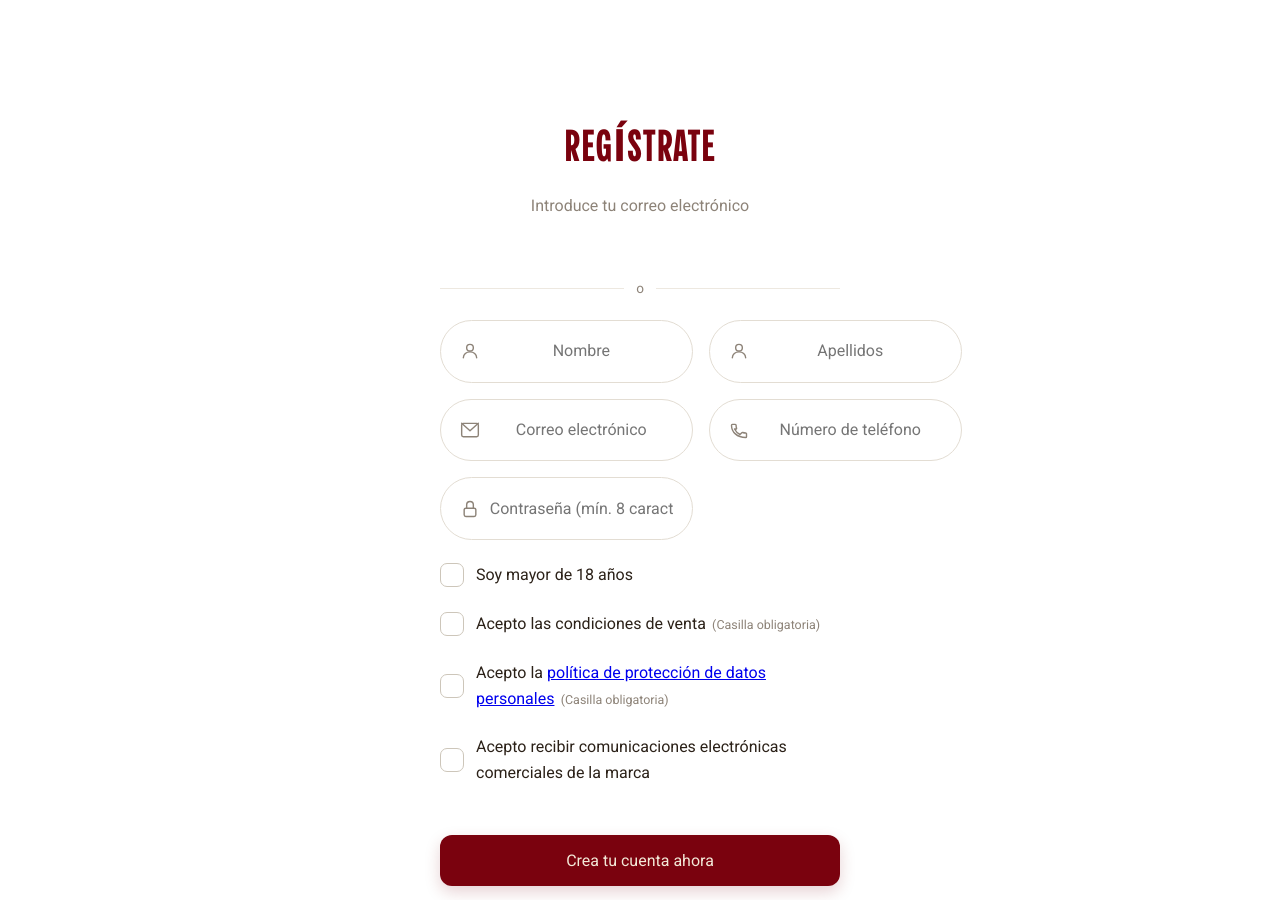
it: Registro page › shows welcome modal after successful registration
Type "Maria" into the field with placeholder "Nombre".
click(581, 351); type("Maria")  # box [490,327,673,375]
Type "García" into the field with placeholder "Apellidos".
click(850, 351); type("García")  # box [759,327,942,375]
Type "maria@test.com" into the field with placeholder "Correo electrónico".
click(581, 430); type("maria@test.com")  # box [490,406,673,454]
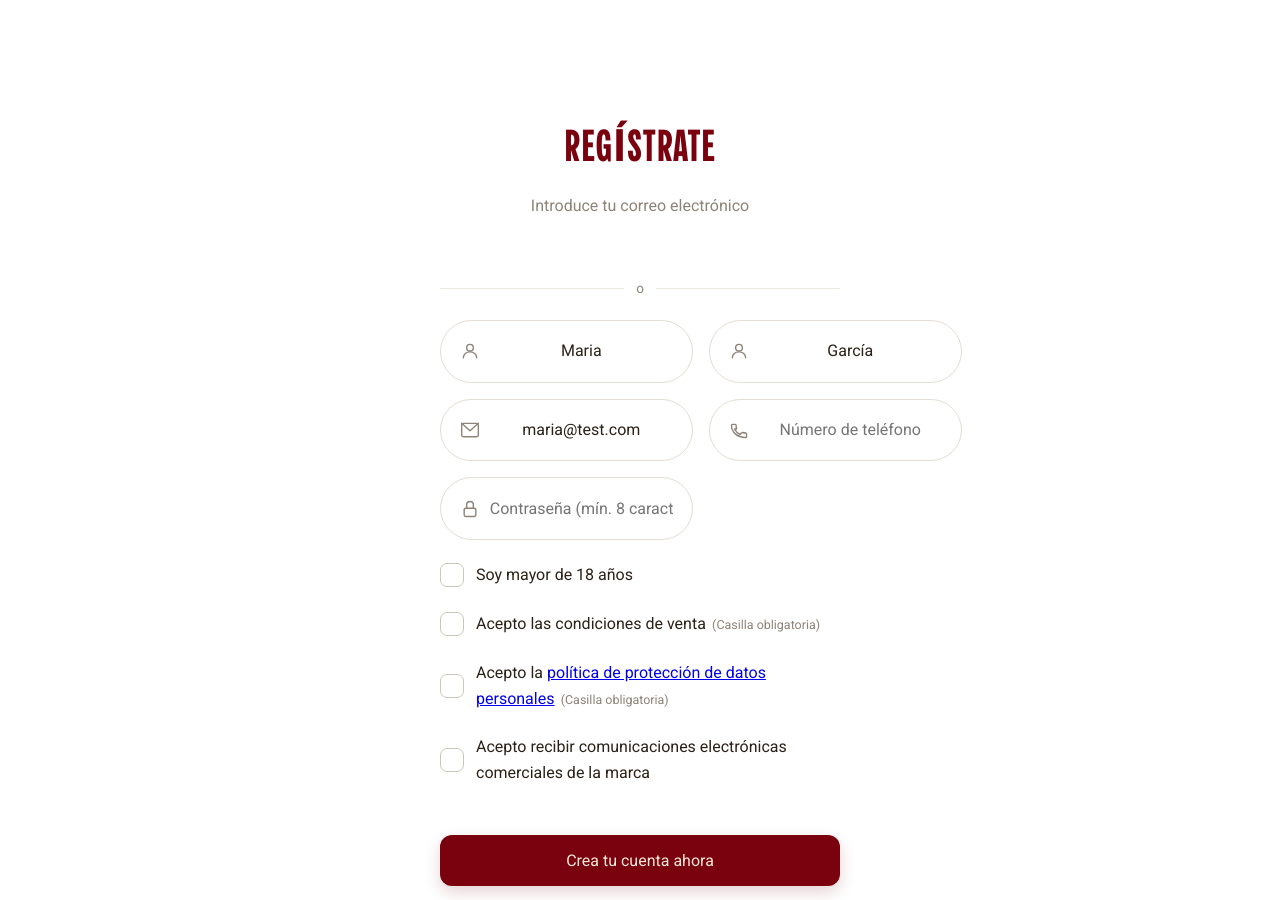
Type "612345678" into the field with placeholder "Número de teléfono".
click(850, 430); type("612345678")  # box [759,406,942,454]
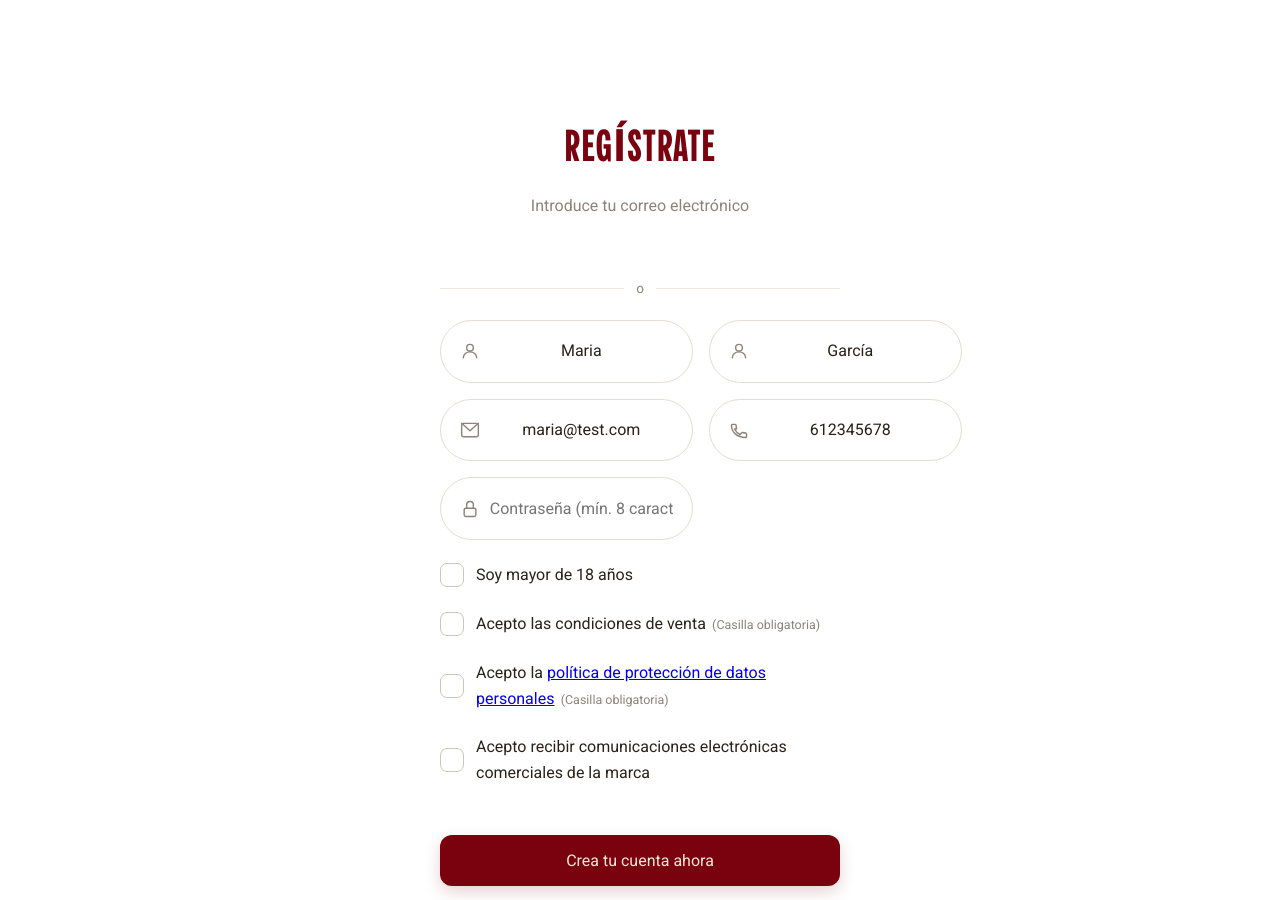
Type "securepass" into the password field with placeholder "Contraseña (mín. 8 caracteres)".
click(581, 509); type("securepass")  # box [490,485,673,533]
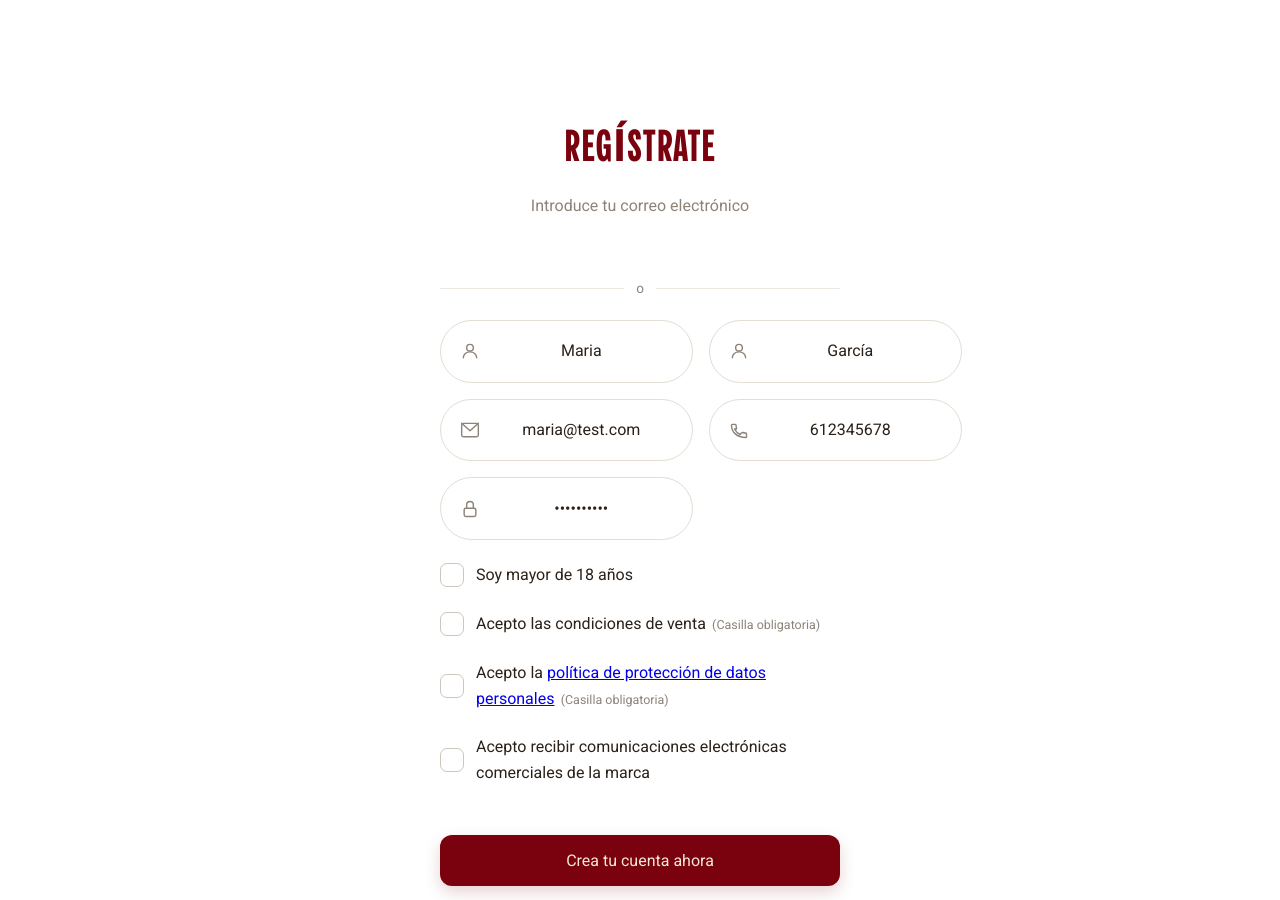
Click the checkbox labelled "Acepto las condiciones de venta (Casilla obligatoria)".
click(640, 624)  # box [440,611,840,637]
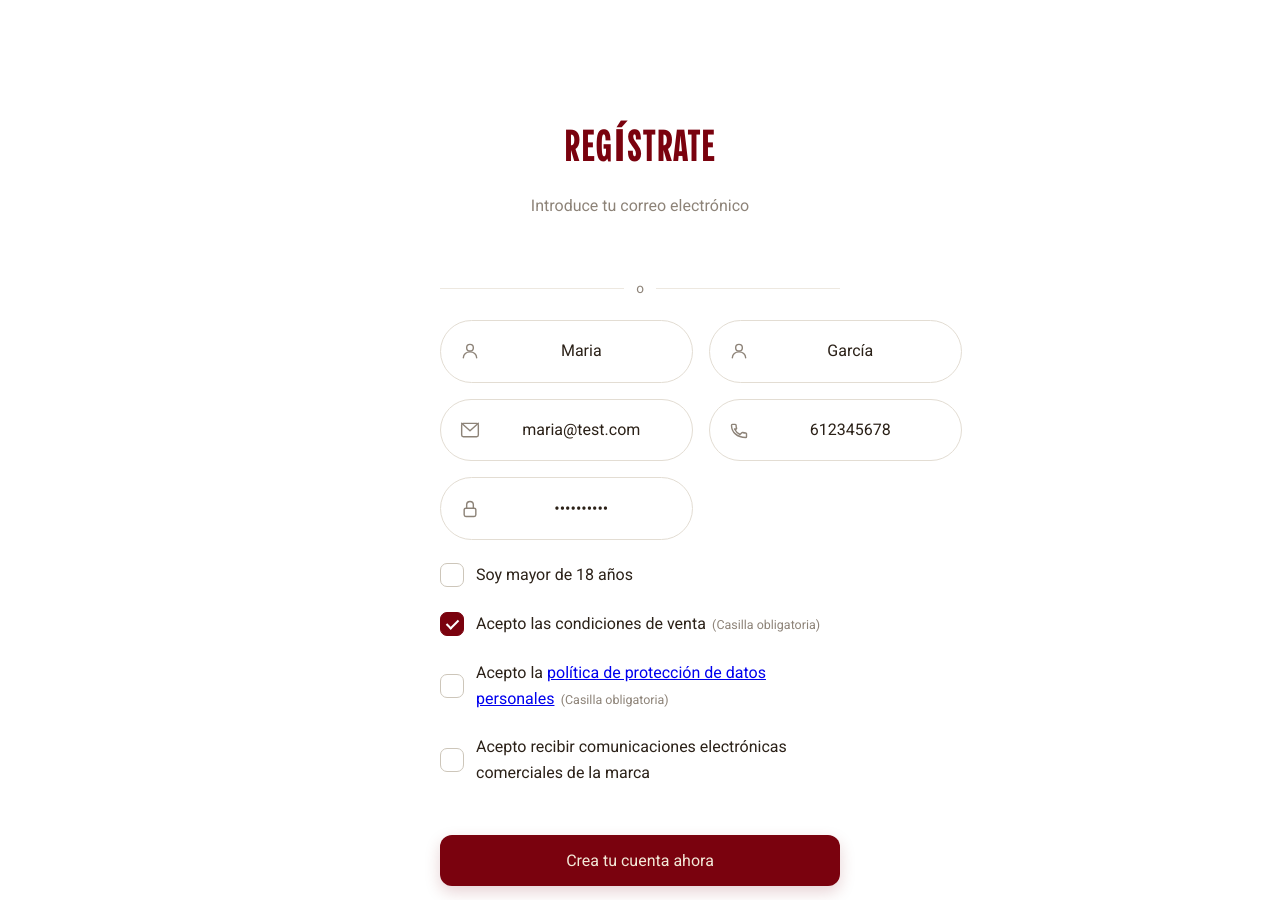
Click the 3rd checkbox.
click(510, 672)  # box [440,663,766,708]
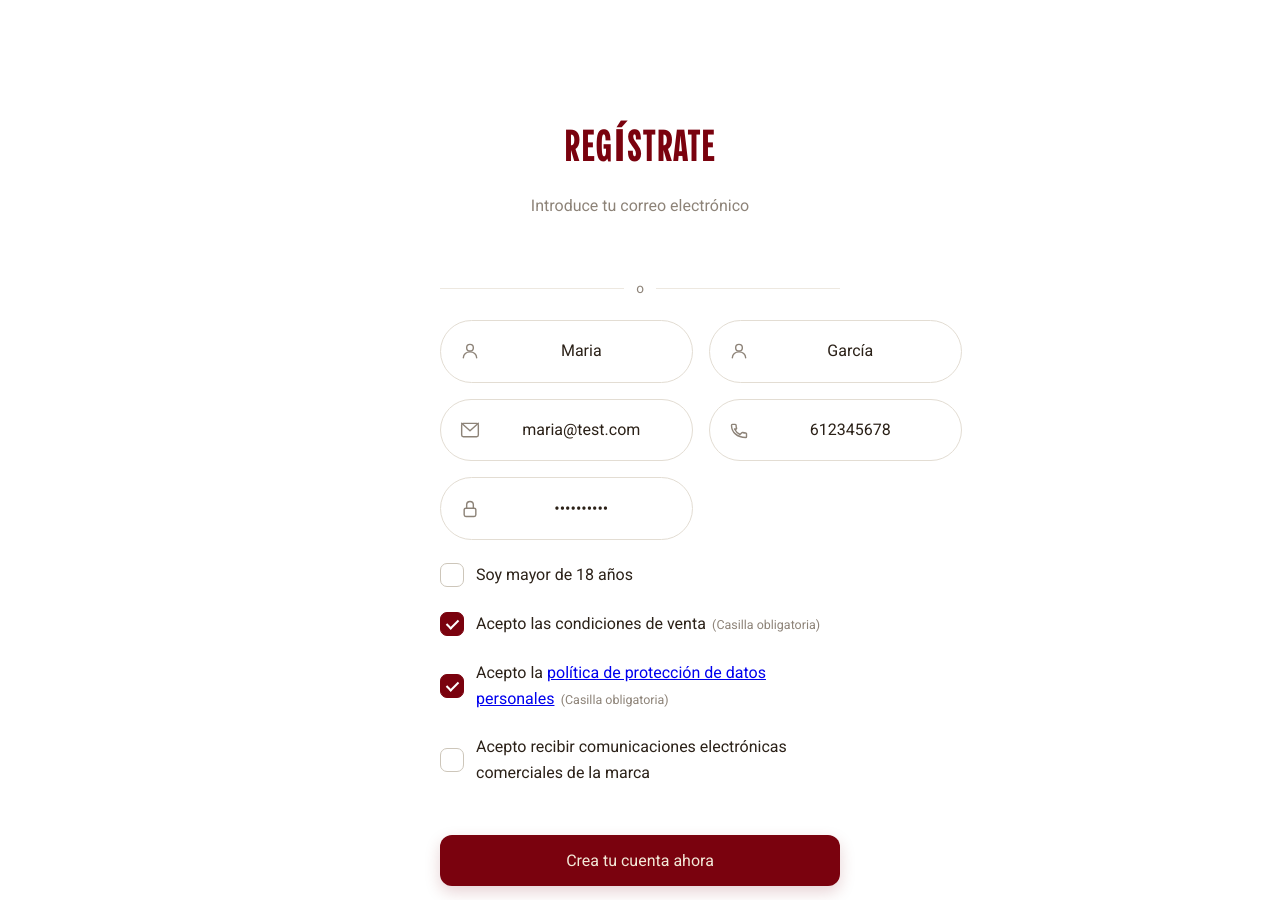
Click the button "Crea tu cuenta ahora".
click(640, 861)  # box [440,835,840,886]
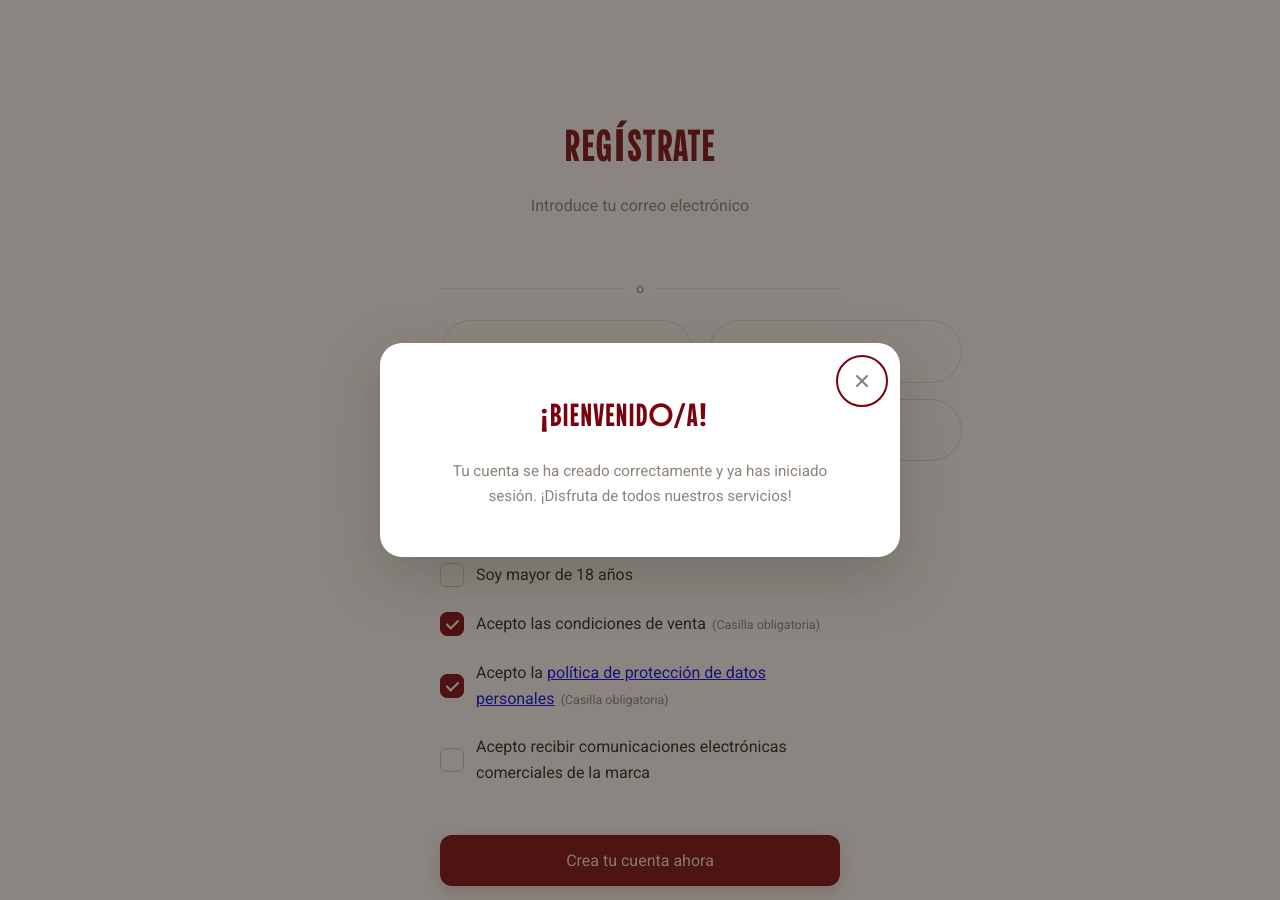
Expected: the heading "¡Bienvenido/a!" is shown, [540,400,708,432]
